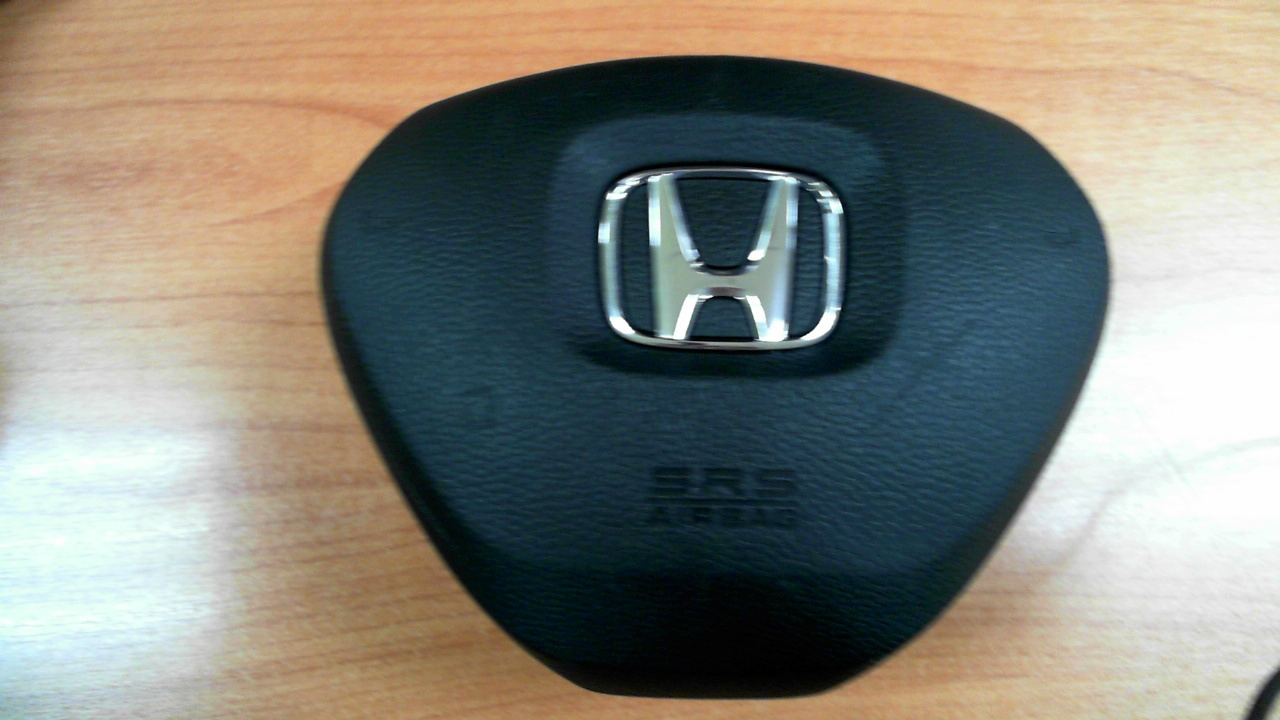Airbag: (319, 53, 1111, 700)
Honda: (598, 165, 845, 350)
